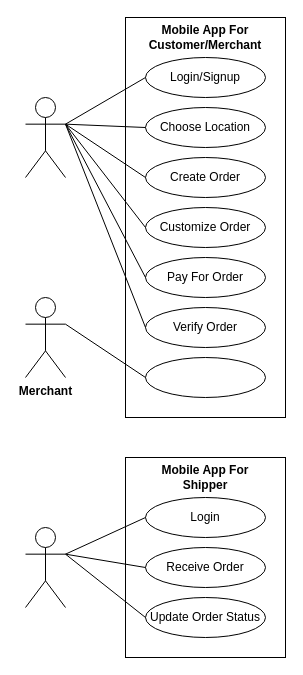
Some shapes in this 303 by 675 pixel diagram are drawn without their labels. The shapes that lost their labels are listed below. From the top down, each one's box as (x1, y1, x2, y2) in pixels, then its label:
(24, 96, 66, 178): Customer
(144, 356, 266, 398): CRUD Product
(24, 526, 66, 608): Shipper
